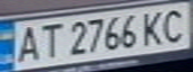2: (66, 17, 90, 56)
6: (103, 12, 127, 52), (118, 11, 142, 50)
7: (84, 16, 106, 54)
A: (9, 22, 42, 64)
C: (157, 6, 193, 44)
K: (136, 8, 169, 47)
T: (33, 20, 66, 60)
